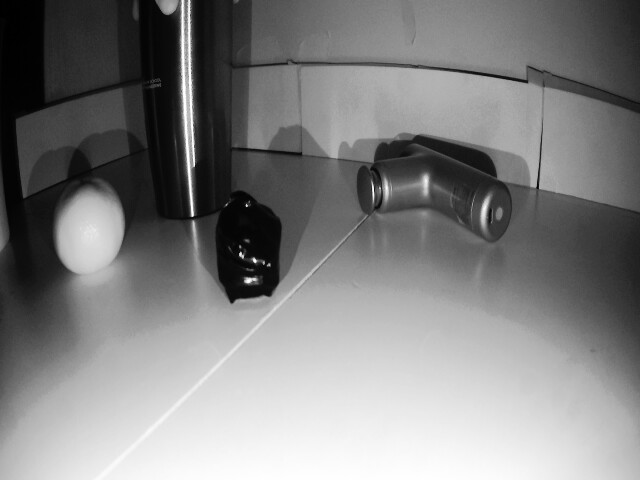black: (215, 194, 287, 295)
